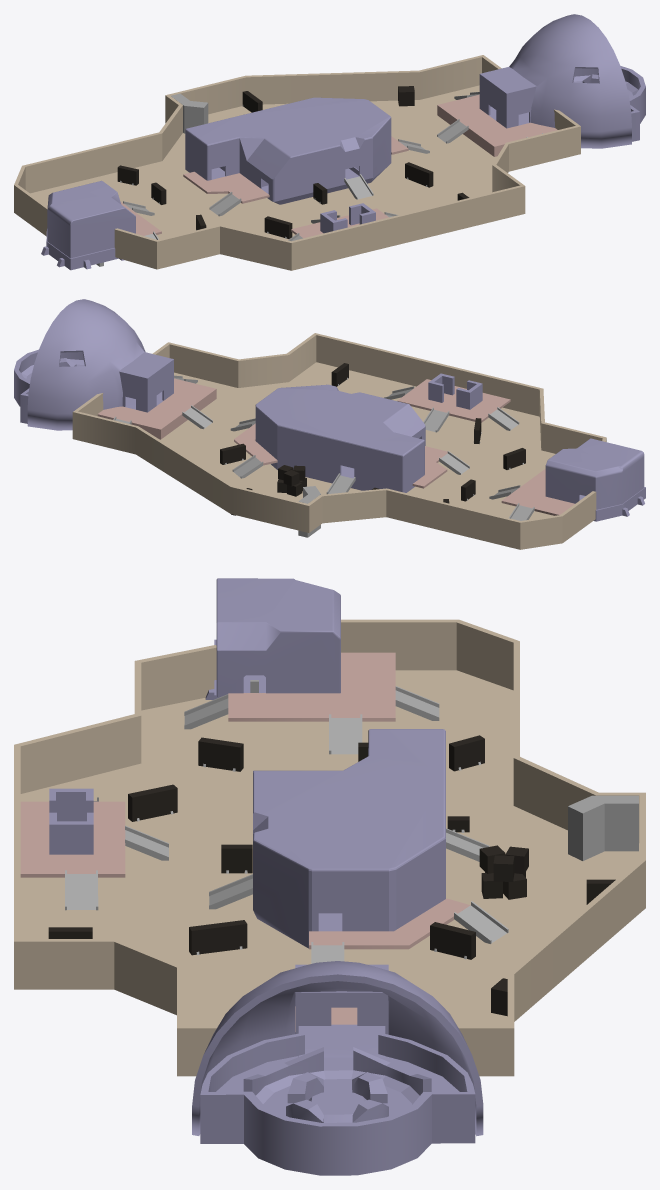
Rendered from LevelDesign2Prout.fbx.
The picture shows the model from 3 angles, top to bottom: view 1: azimuth 30°, elevation 25°; view 2: azimuth 150°, elevation 25°; view 3: azimuth 270°, elevation 25°; orthographic projection. The views are drawn at different scales.
Parts seen in each view (by area): view 1: pPlane1, pCube44, pSphere1, polySurface8, pCube28, pCube49, pCylinder1, pCube40, pCube38, pCube48, pCube65, pCube19 (+7 smaller); view 2: pPlane1, pCube44, pSphere1, polySurface8, pCube28, pCube49, pCube42, pCube29, pCylinder1, pCube48, pCube40, pCube41 (+9 smaller); view 3: pPlane1, pCube44, pCylinder1, polySurface8, pSphere1, pCube29, pCube42, pCube49, pCube65, pCube41, pCube48, pCube19 (+12 smaller).
Boxes of the visible parts, <box> form: pPlane1: <box>14,55,580,270</box>; pCube44: <box>185,97,391,204</box>; pSphere1: <box>509,14,631,148</box>; polySurface8: <box>47,180,135,258</box>; pCube28: <box>437,94,557,156</box>; pCube49: <box>479,67,536,128</box>; pCylinder1: <box>573,66,645,141</box>; pCube40: <box>183,171,269,203</box>; pCube38: <box>41,229,124,270</box>; pCube48: <box>320,203,375,233</box>; pCube65: <box>171,93,208,133</box>; pCube19: <box>405,162,433,187</box>; pPlane1: <box>72,333,606,549</box>; pCube44: <box>255,384,425,492</box>; pSphere1: <box>27,299,145,430</box>; polySurface8: <box>545,438,644,509</box>; pCube28: <box>97,378,216,439</box>; pCube49: <box>119,352,173,412</box>; pCube42: <box>397,379,510,422</box>; pCube29: <box>501,469,574,515</box>; pCylinder1: <box>14,349,84,423</box>; pCube48: <box>428,373,482,409</box>; pCube40: <box>412,446,447,488</box>; pCube41: <box>234,423,277,465</box>; pPlane1: <box>14,619,645,1076</box>; pCube44: <box>253,729,445,948</box>; pCylinder1: <box>200,1032,475,1175</box>; polySurface8: <box>216,578,340,697</box>; pSphere1: <box>192,961,483,1136</box>; pCube29: <box>228,652,395,721</box>; pCube42: <box>20,801,125,877</box>; pCube49: <box>295,964,388,1057</box>; pCube65: <box>568,795,638,860</box>; pCube41: <box>309,898,470,949</box>; pCube48: <box>49,788,93,854</box>; pCube19: <box>189,920,247,955</box>.
Size of the model in its own units: 54803 by 12003 by 28571.
